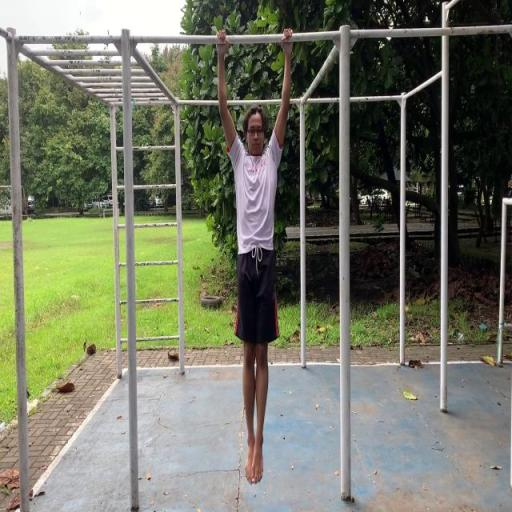Normal_BrenchPress: (214, 27, 295, 486)
